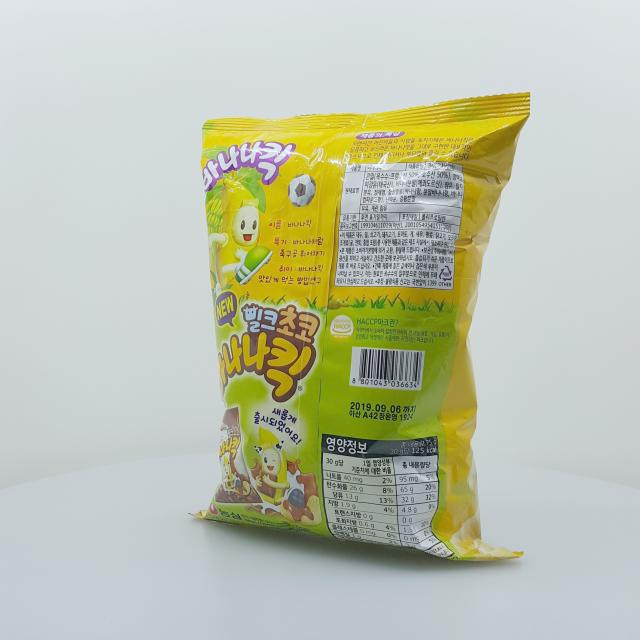-75G: (189, 93, 531, 561)
